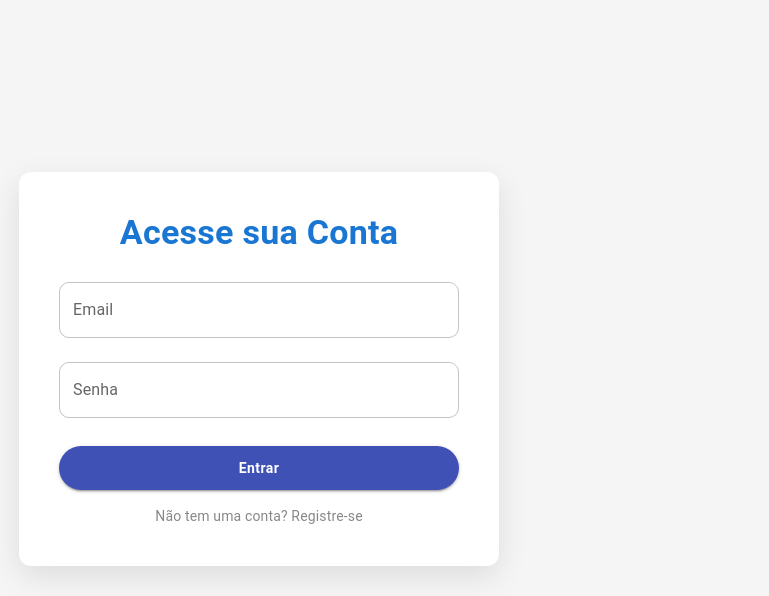
LoginPage Component › handles API errors gracefully
Type "test@example.com" into the field labelled "Email". click: (259, 310)
box: [59,282,459,338]
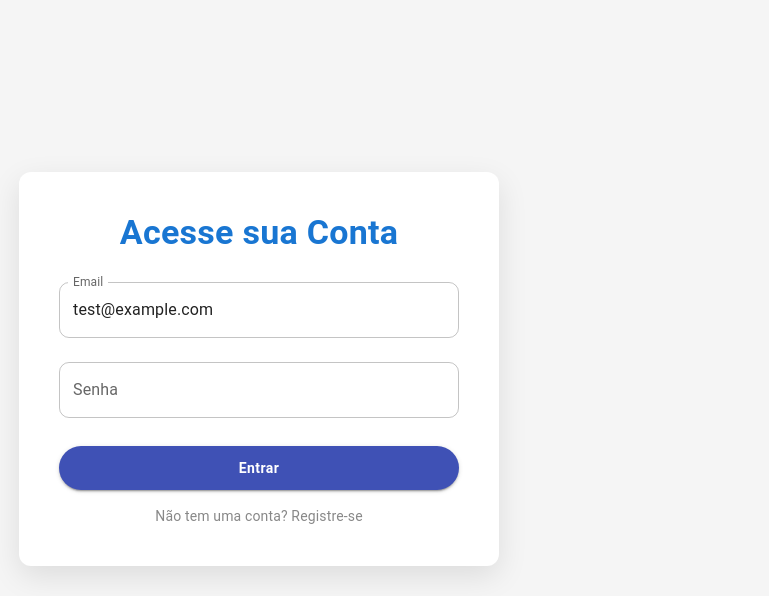
Type "password123" into the password field labelled "Senha". click: (259, 390)
box: [59,362,459,418]
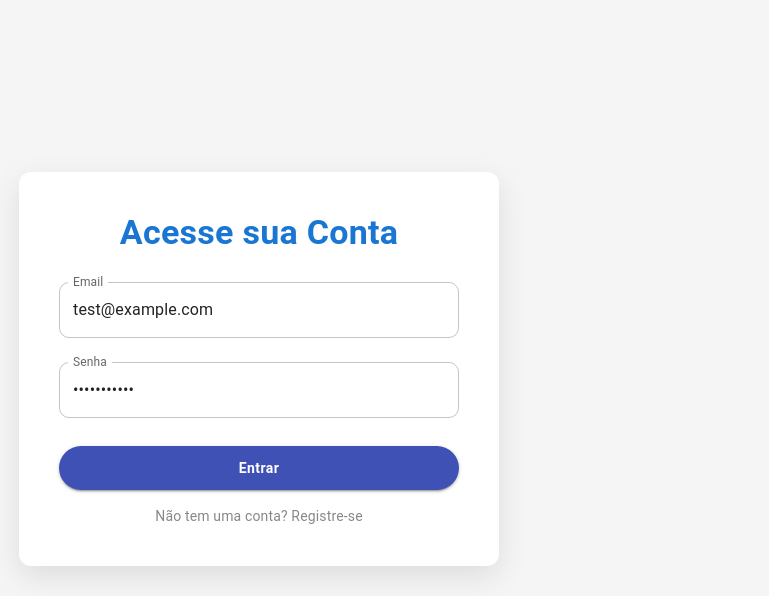
Click the button "Entrar". click: (259, 468)
box: [59,446,459,490]
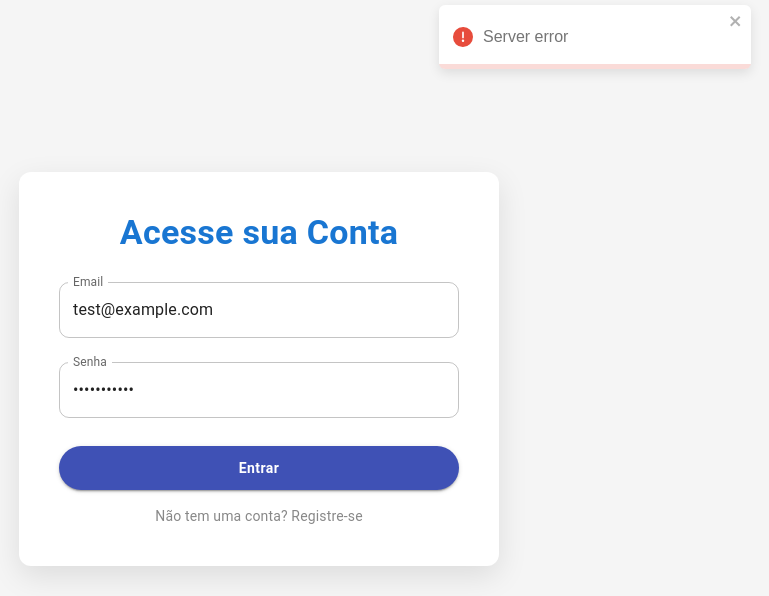
Result: the text "Server error" is shown at [483,28,568,45]
